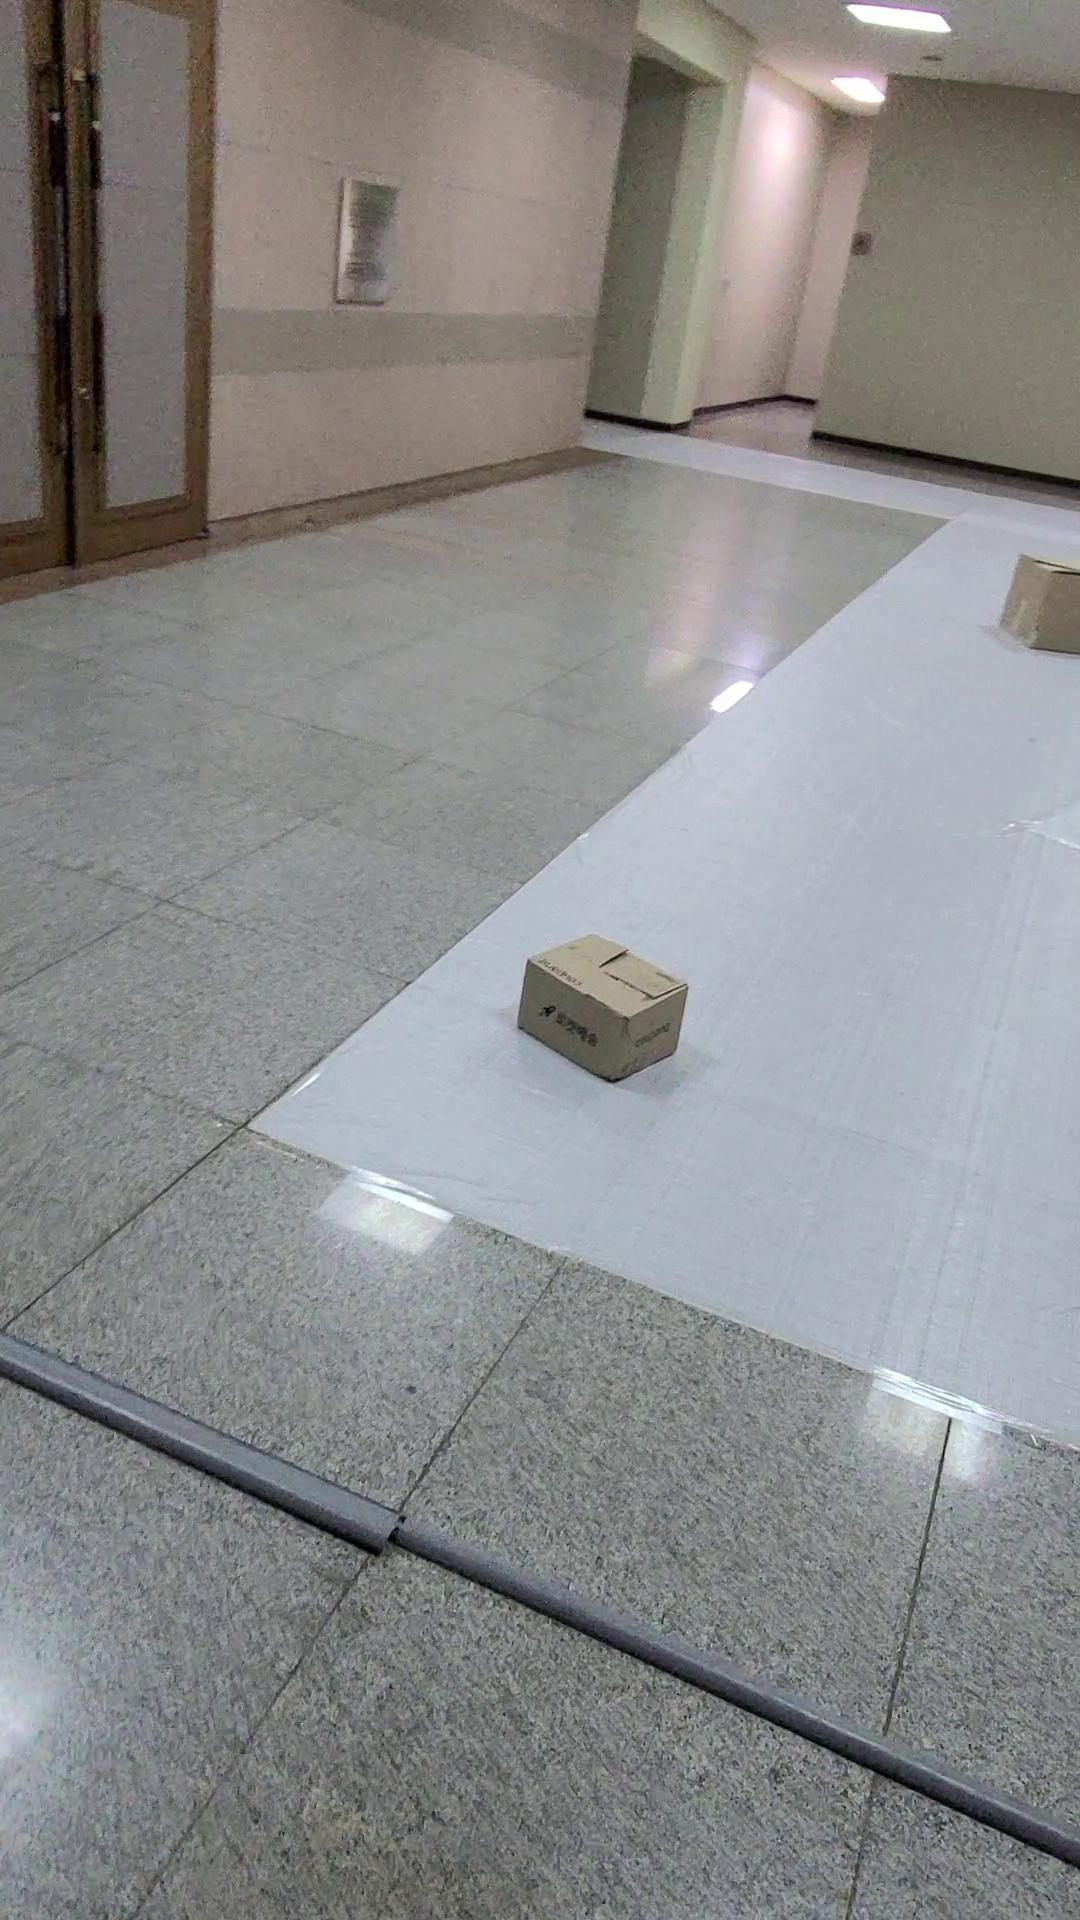Box: (506, 928, 702, 1095)
